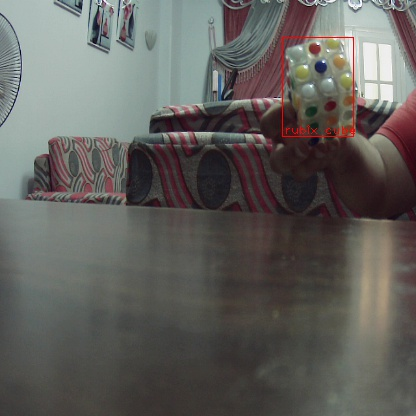Rubix Cube: (287, 43, 350, 125)
